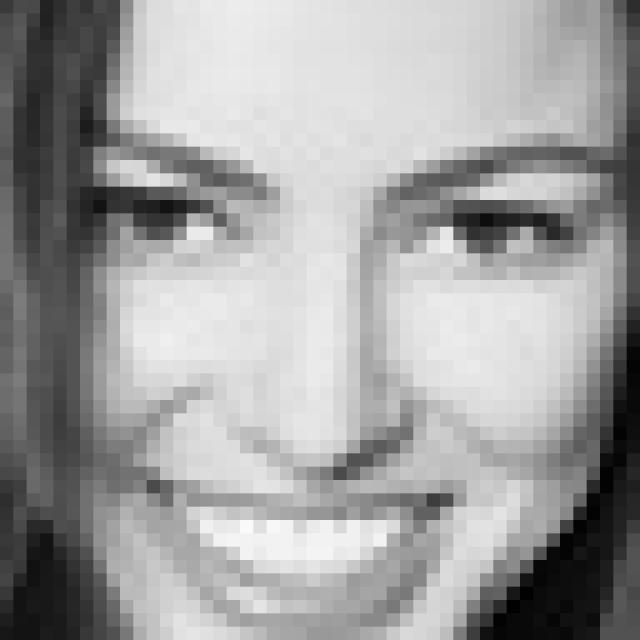happy: (77, 118, 620, 640)
